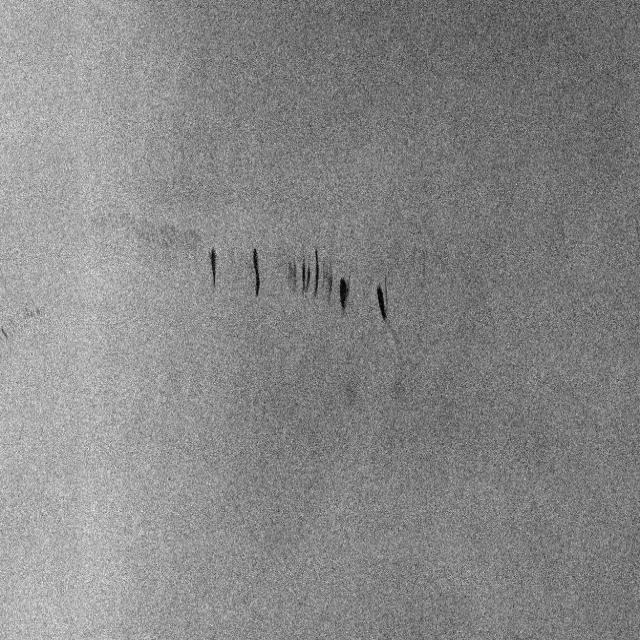oil-spill: (312, 252, 354, 326), (284, 249, 312, 300), (371, 272, 395, 331), (248, 247, 265, 303), (207, 243, 221, 291)
